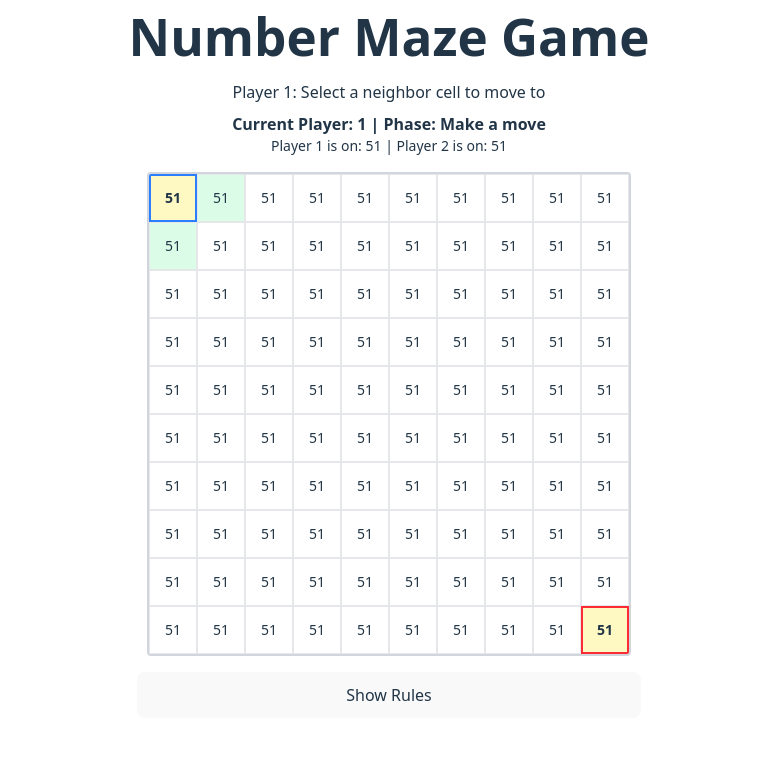
Test: NumberMazeGame › shows rules when the "Show Rules" button is clicked
Check: the text "Player 1 starts at top-left" is not shown
Click the Show Rules button
Click the button "Show Rules" at (389,695), box [136,672,641,718]
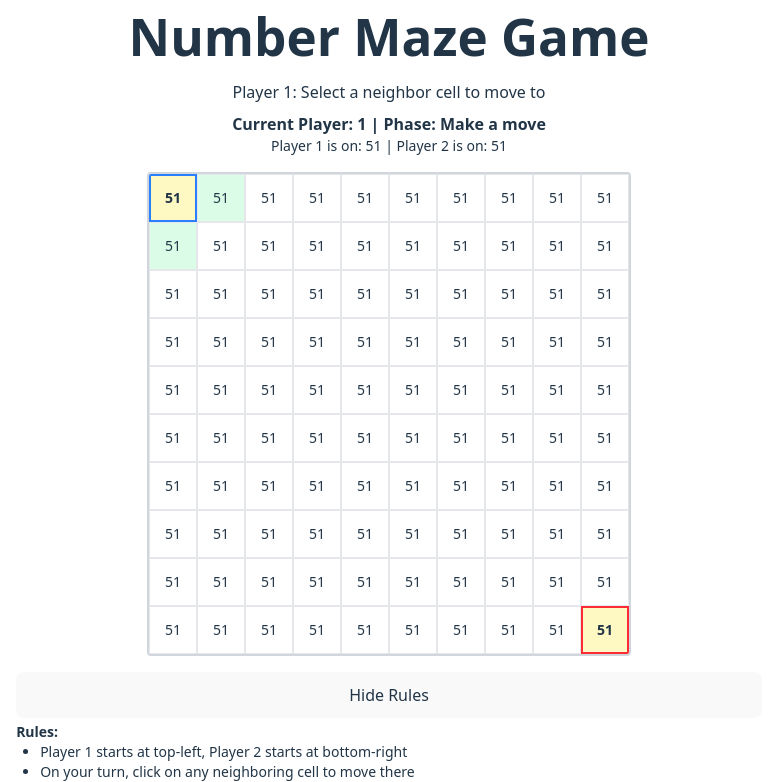
Check: the list item "Player 1 starts at top-left, Player 2 starts at bottom-right" is shown, box [40,742,407,760]
Click Hide Rules
Click the button "Hide Rules" at (389,695), box [16,672,762,718]
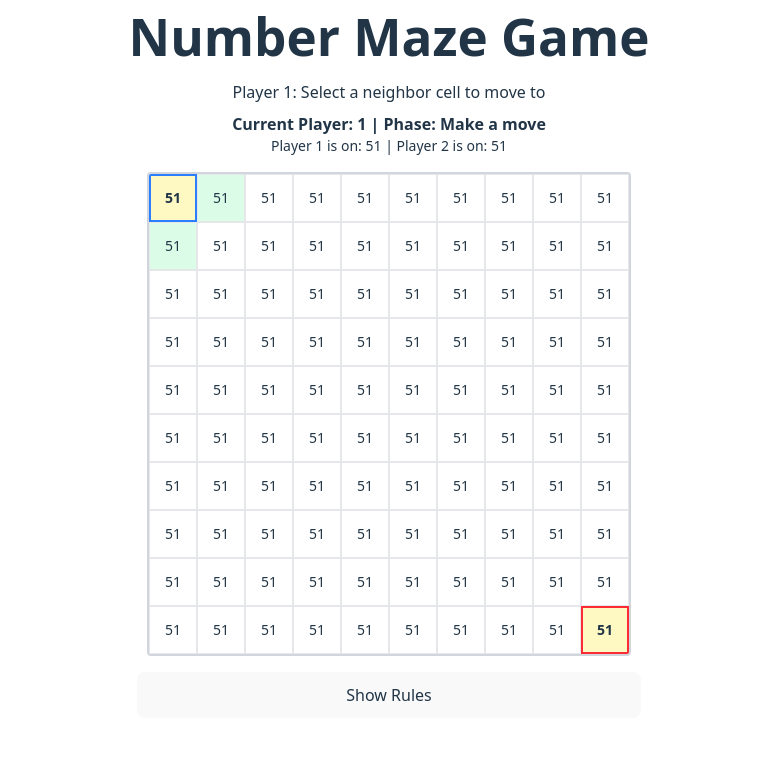
Check: the list item "Player 1 starts at top-left" is gone
